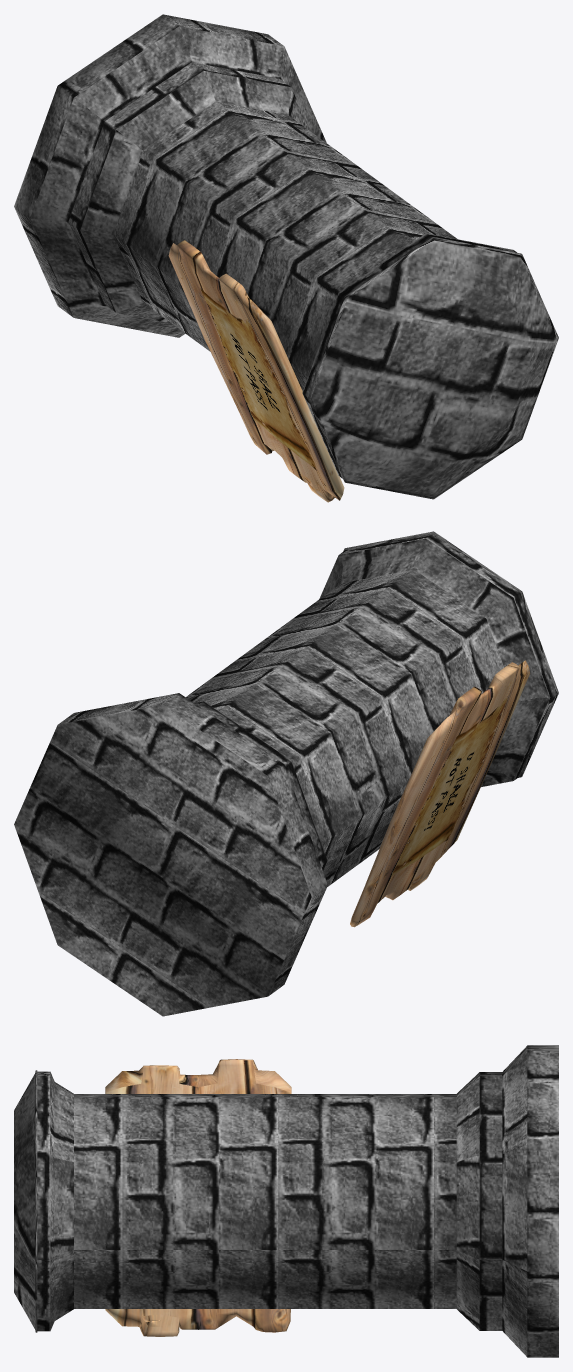
The model's file is Tower_AOE_slow_animated.fbx.
The picture shows the model from 3 angles, top to bottom: view 1: azimuth 30°, elevation 25°; view 2: azimuth 150°, elevation 25°; view 3: azimuth 270°, elevation 25°; orthographic projection. The views are drawn at different scales.
Parts seen in each view (by area): view 1: Cylinder; view 2: Cylinder; view 3: Cylinder.
Boxes of the visible parts, x1=… form: Cylinder: x1=14, y1=14, x2=558, y2=502; Cylinder: x1=14, y1=531, x2=558, y2=1016; Cylinder: x1=14, y1=1045, x2=558, y2=1357.
Bounding box in the file's own units: 2 × 2.05 × 3.28.
Materials: 2 (1 with a texture image).
